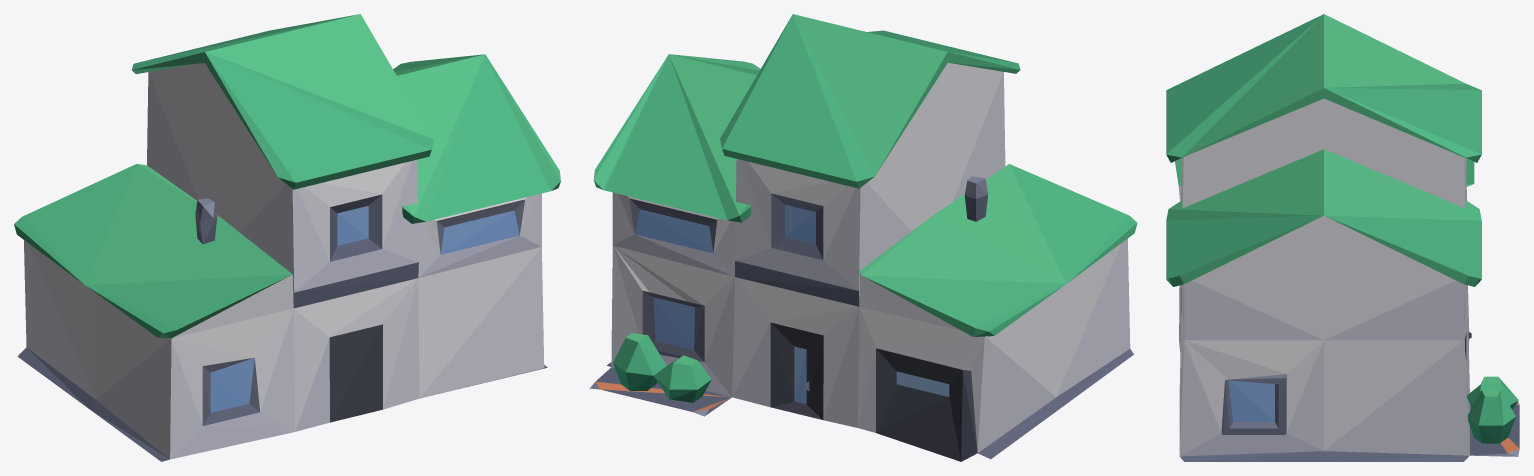
Rendered from building-type-c_vita.obj.
3 views of the same model, side by side, from view 1: azimuth 30°, elevation 25°; view 2: azimuth 150°, elevation 25°; view 3: azimuth 270°, elevation 25° (orthographic). The views are drawn at different scales.
Size of the model in its own units: 1.28 by 1.03 by 1.01.
Materials: 1 (1 with a texture image).
